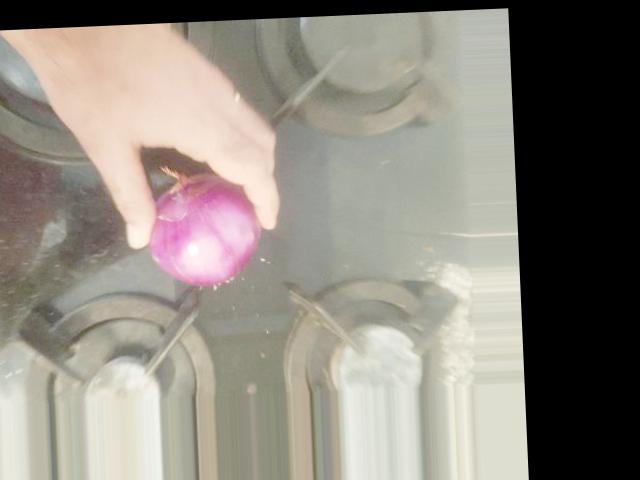onion: (139, 170, 268, 286)
